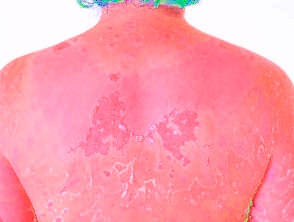SJS-TEN: (0, 14, 293, 221)
